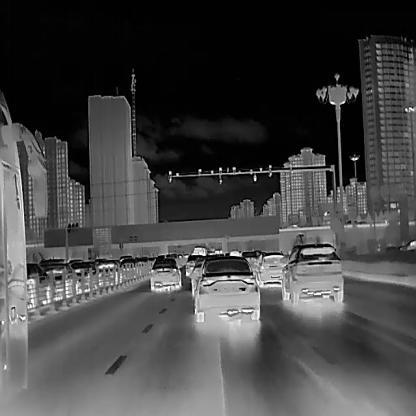car: (0, 87, 47, 404), (187, 254, 261, 322), (278, 241, 343, 305), (43, 259, 78, 296), (148, 253, 181, 292), (255, 251, 288, 287), (25, 262, 54, 302), (73, 262, 98, 288), (98, 259, 121, 284), (191, 258, 206, 296), (241, 249, 261, 274), (120, 256, 140, 277), (185, 255, 202, 278), (398, 238, 415, 250), (193, 246, 203, 255), (202, 244, 209, 255), (214, 249, 218, 254)
